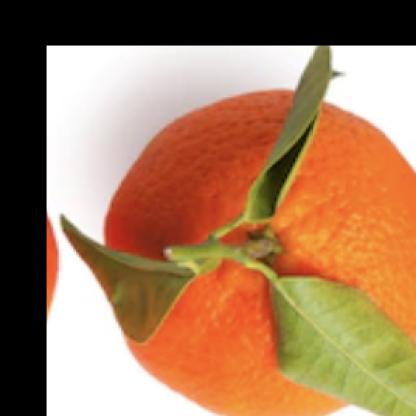fresh: (106, 90, 416, 415)
